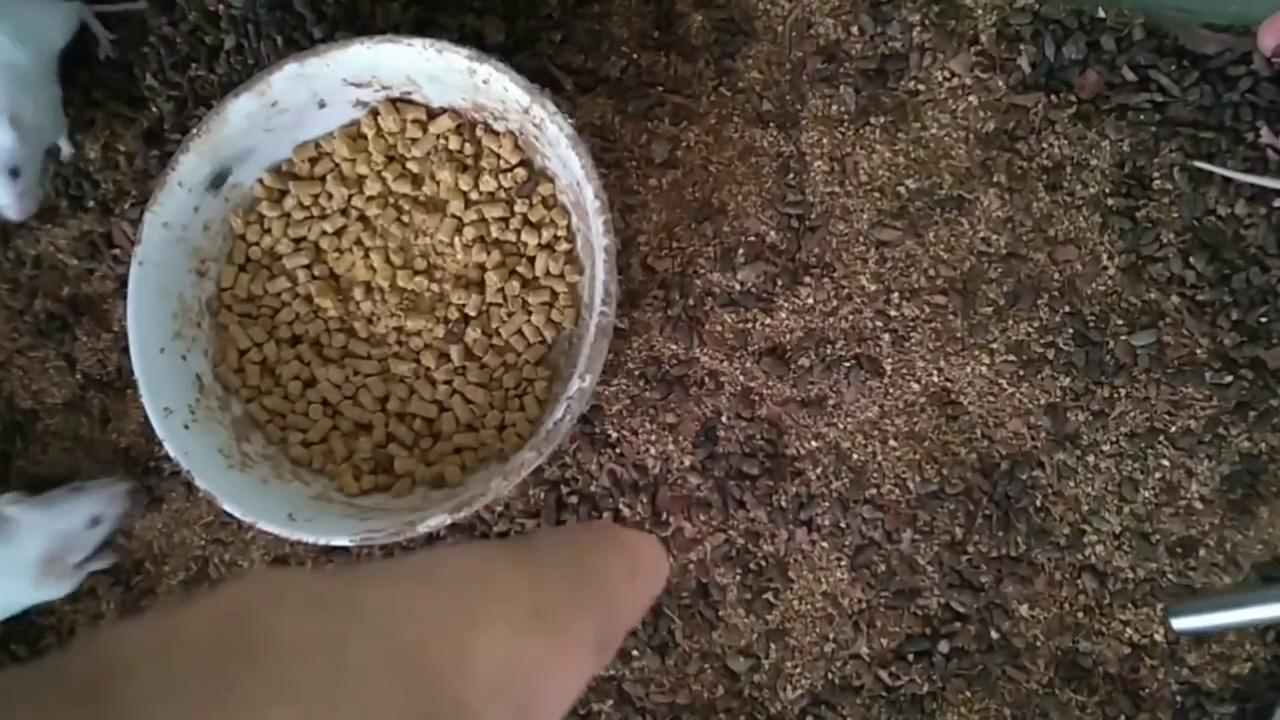rat: (0, 0, 148, 221), (0, 478, 128, 626)
